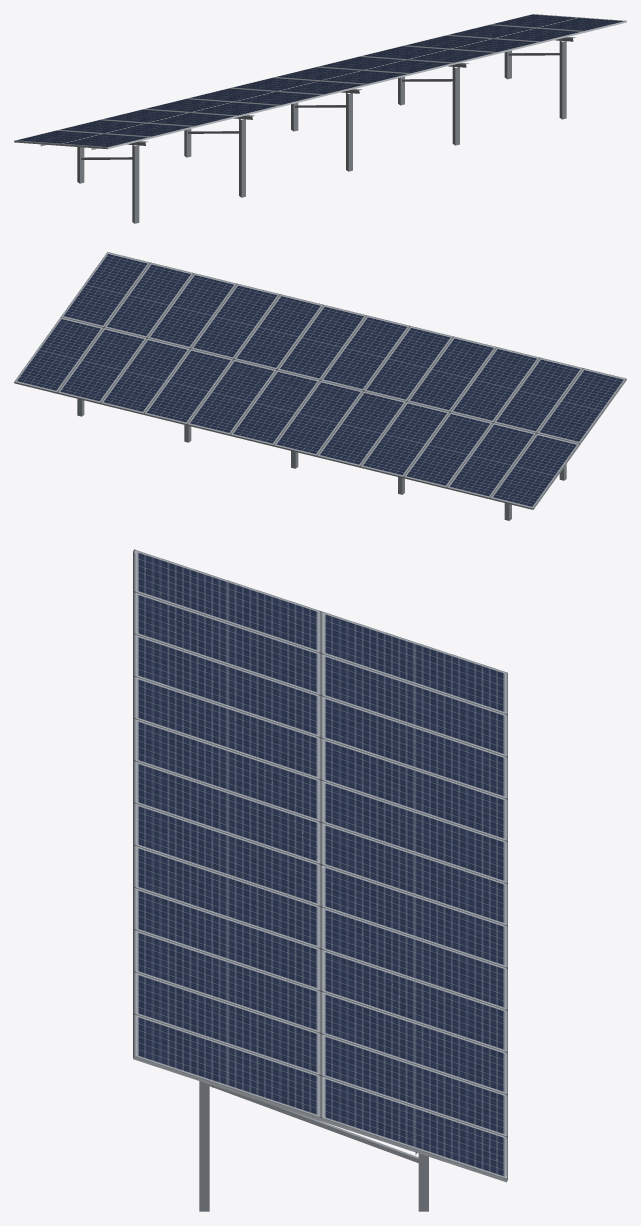
The model's file is solar-table.glb.
3 views of the same model, one above another, from view 1: azimuth 30°, elevation 25°; view 2: azimuth 150°, elevation 25°; view 3: azimuth 270°, elevation 25° (orthographic). The views are drawn at different scales.
Visible parts, largest first — view 1: modules, solar-table; view 2: modules, solar-table; view 3: modules, solar-table.
Part boxes in pixels (x1=…): modules: x1=15, y1=14, x2=625, y2=147; solar-table: x1=14, y1=21, x2=626, y2=223; modules: x1=14, y1=252, x2=626, y2=508; solar-table: x1=14, y1=379, x2=626, y2=520; modules: x1=134, y1=549, x2=507, y2=1179; solar-table: x1=133, y1=550, x2=507, y2=1211.
Bounding box in the file's own units: 13.85 × 2.52 × 4.33.
2 materials, 2 textured.
